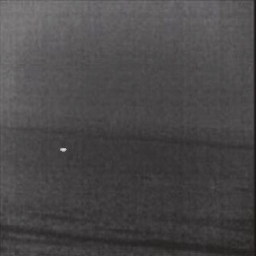Target: (58, 146, 67, 153)
